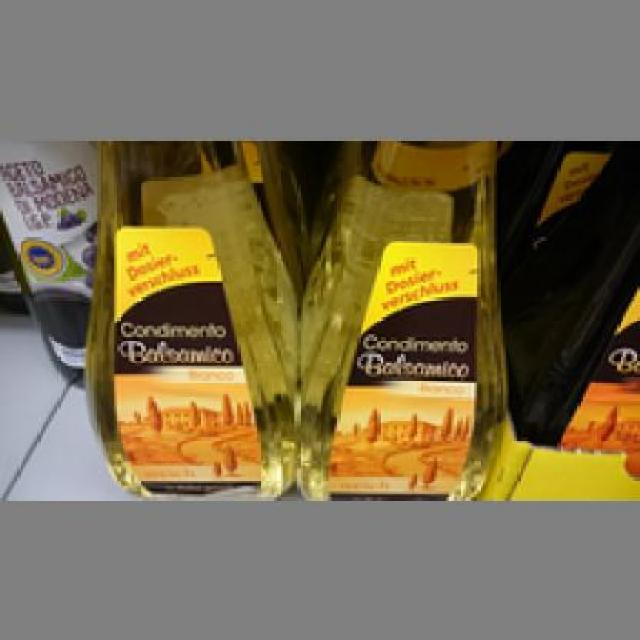Vinegar: (82, 134, 295, 492), (300, 137, 503, 497)
